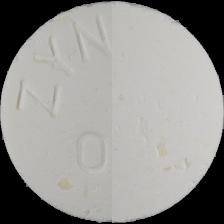51991-738: (0, 0, 224, 224)
